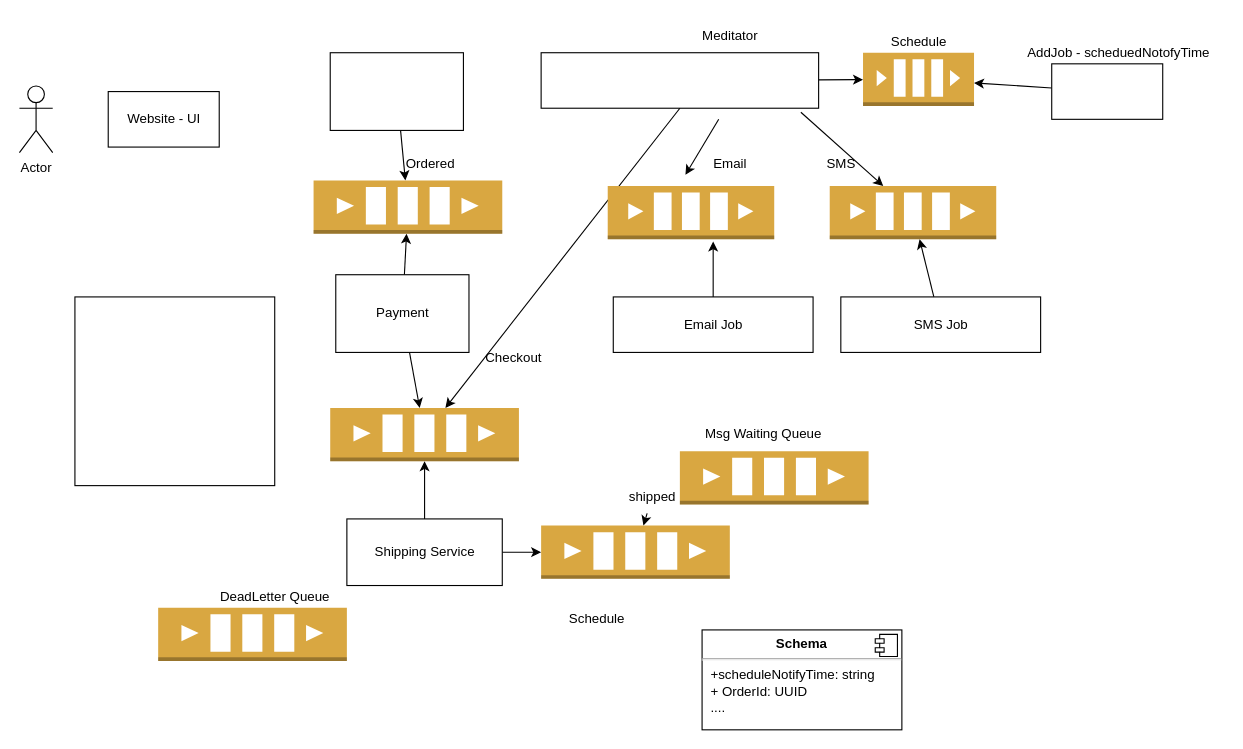
The diagram is 1243 pixels wide and 749 high, and some of its shapes have lost their labels. Here are the shapes that lost their labels. From the top down, the centre of each, then its label:
At point 396,91: "Order".
At point 679,80: "Notification filter the dupicate msg by uuid".
At point 1107,91: "CronJob".
At point 174,391: "retries for msg event, we have uique Id".
